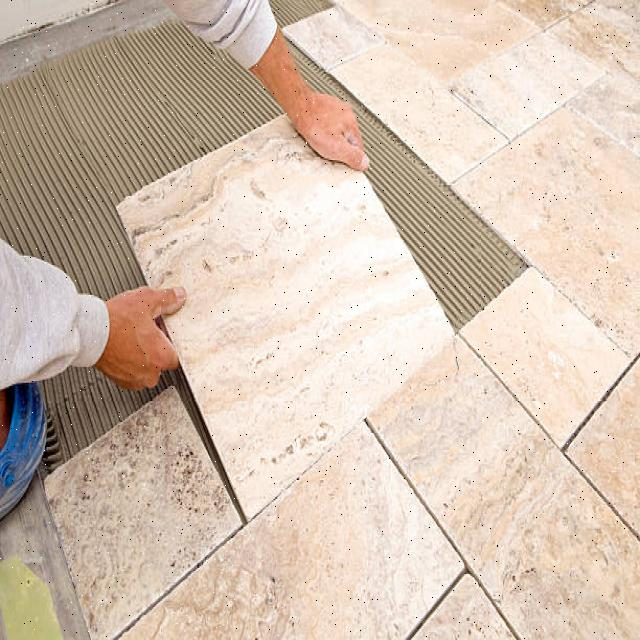Metamorphic: (105, 101, 463, 494)
